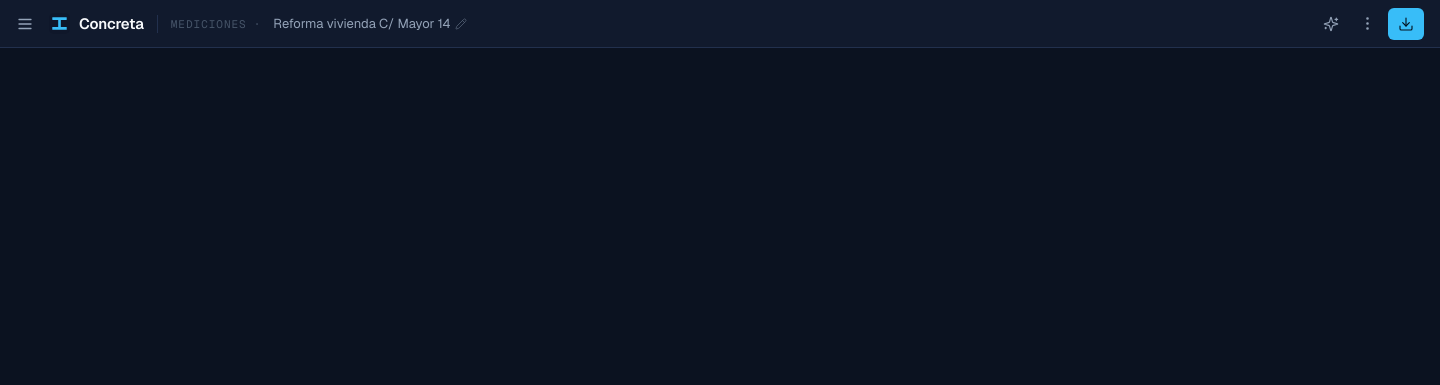
it: TopBar — menú «Más» en móvil (la fila de acciones pisaba la marca) › Escape cierra el menú y devuelve el foco al disparador
Click the button named "Más acciones" at (1367, 24), box [1352,8,1382,38]
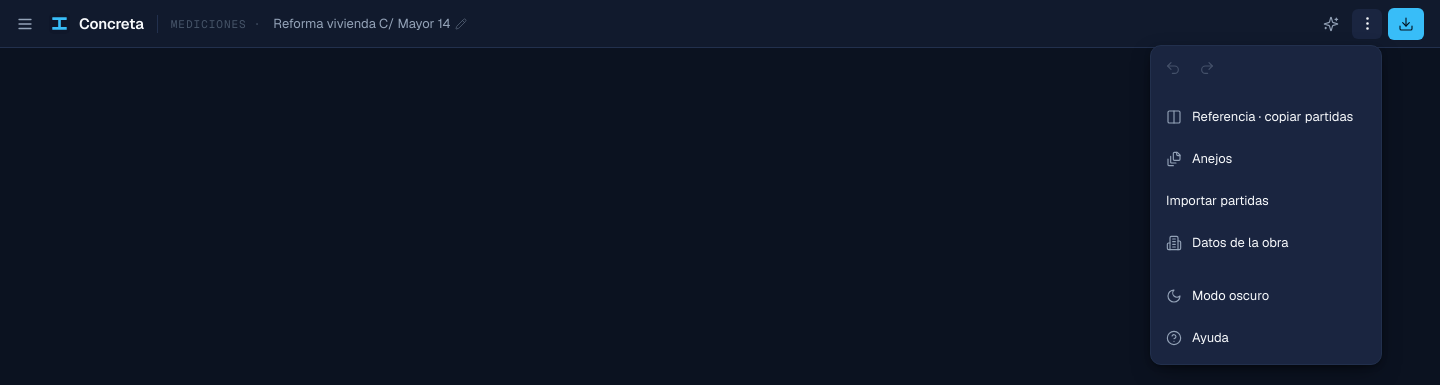
Press Escape
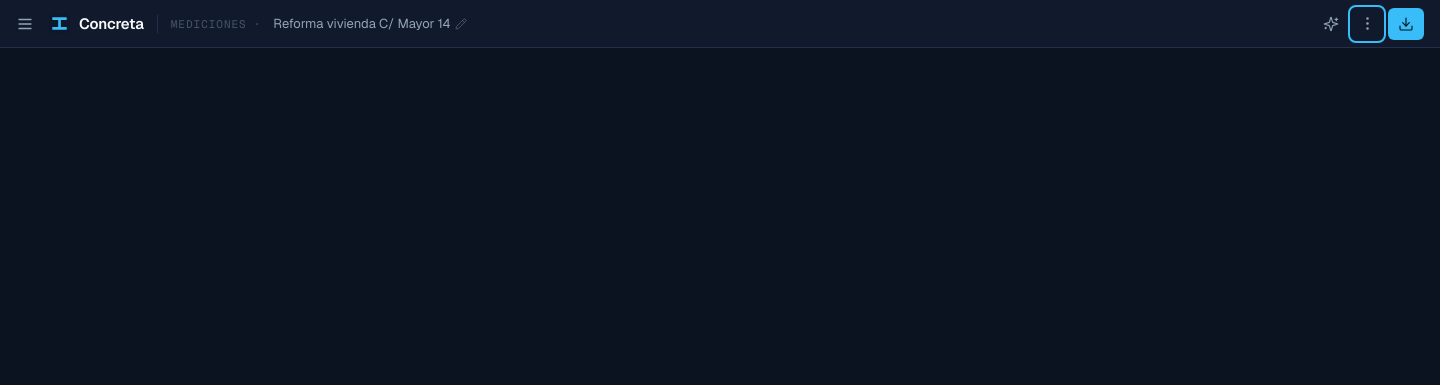
expect the menu is gone: met
